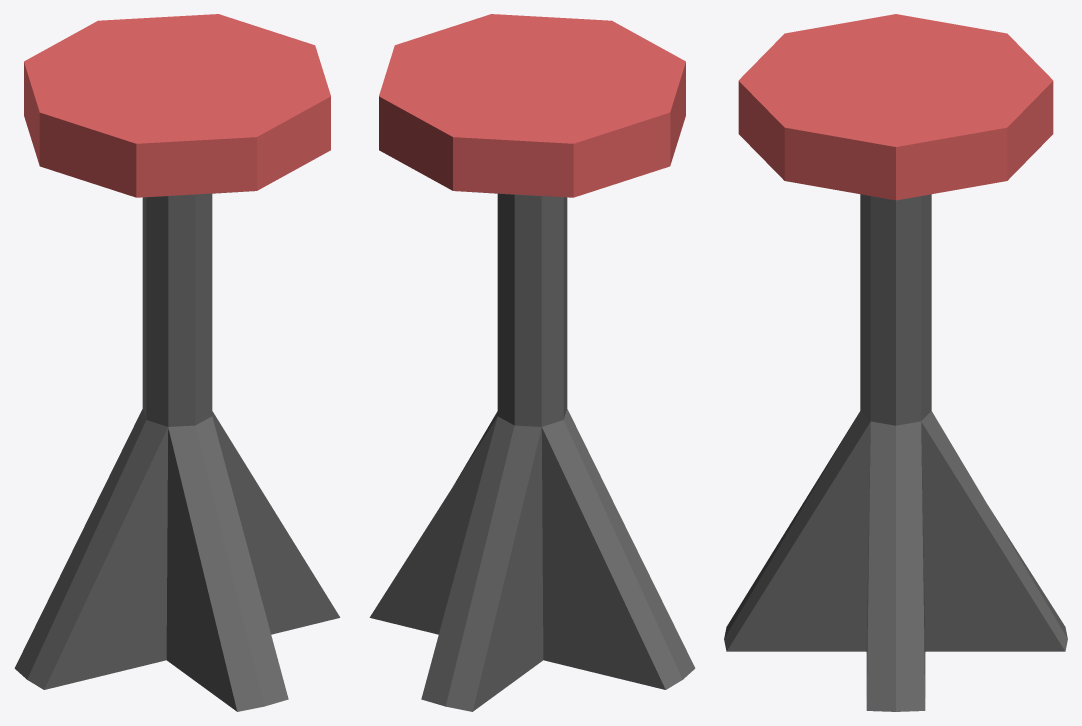
File: stool.fbx
3 renders of one model, left to right at view 1: azimuth 30°, elevation 25°; view 2: azimuth 150°, elevation 25°; view 3: azimuth 270°, elevation 25°, orthographic.
Visible parts, largest first — view 1: stool; view 2: stool; view 3: stool.
Part boxes in pixels (<box>): stool: <box>14,14,340,711</box>; stool: <box>369,14,695,711</box>; stool: <box>724,14,1067,711</box>.
Bounding box in the file's own units: 48.86 × 87.57 × 48.86.
